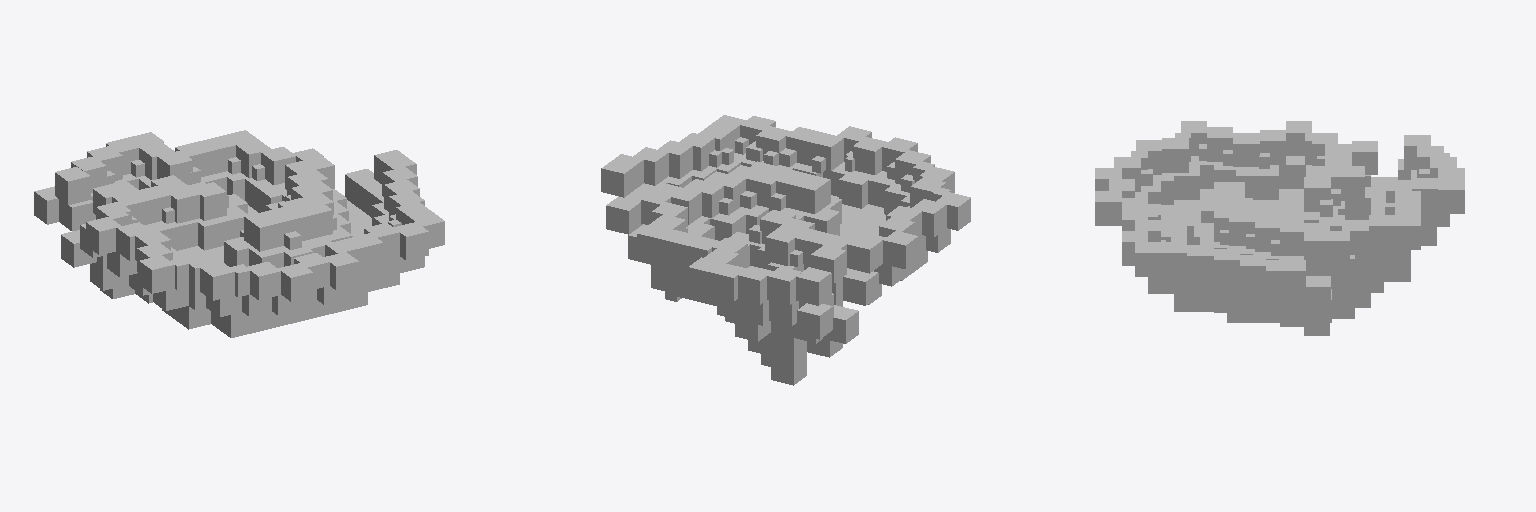
File: cave.obj
3 views of the same model, side by side, from view 1: azimuth 30°, elevation 25°; view 2: azimuth 150°, elevation 25°; view 3: azimuth 270°, elevation 25° (orthographic).
Parts seen in each view (by area): view 1: Cave_try; view 2: Cave_try; view 3: Cave_try.
Part boxes in pixels (x1,y1,x2,y2): Cave_try: (34, 130, 444, 337); Cave_try: (601, 115, 970, 385); Cave_try: (1095, 121, 1464, 335).
Bounding box in the file's own units: 135 × 50 × 140.